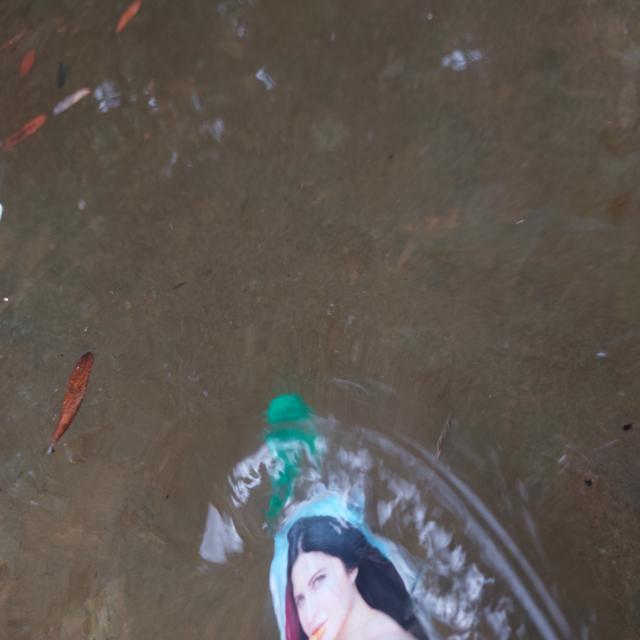leaf: (50, 352, 112, 441), (0, 110, 57, 158), (106, 0, 148, 41), (5, 49, 36, 87)
waterbottle: (238, 376, 586, 640)
